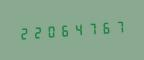four: (73, 19, 86, 38)
seven: (115, 16, 128, 36), (87, 18, 100, 37)
six: (101, 17, 114, 37), (59, 20, 72, 39)
two: (17, 23, 30, 42), (31, 22, 44, 41)
zero: (45, 21, 58, 40)
